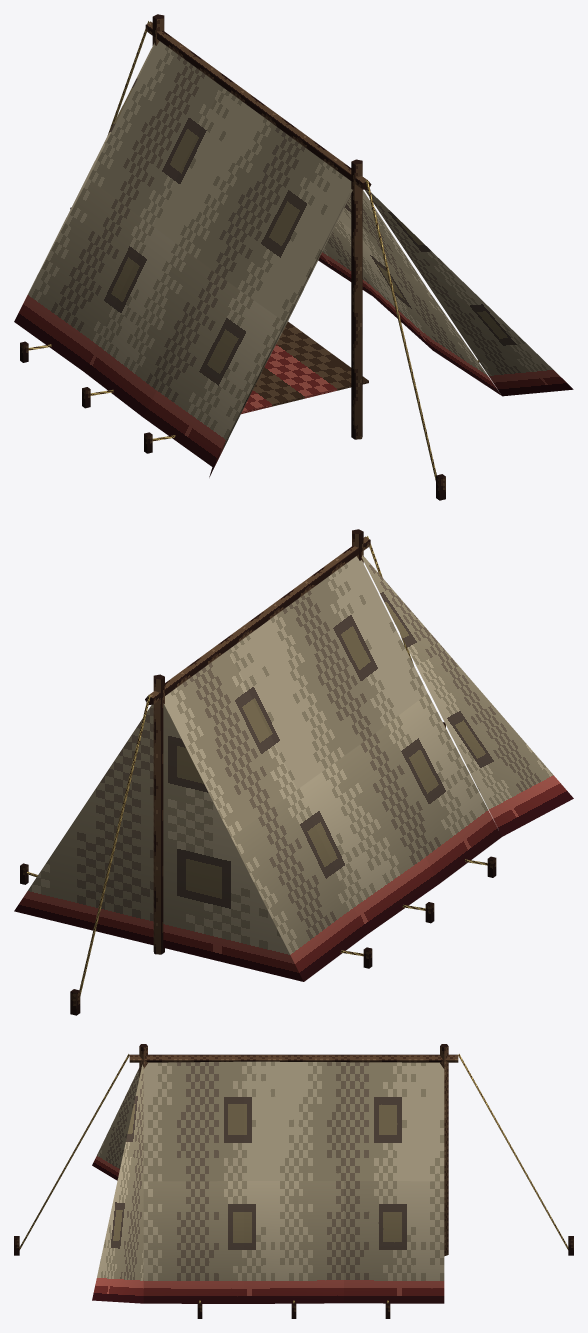
File: tent.glb
The picture shows the model from 3 angles, top to bottom: view 1: azimuth 30°, elevation 25°; view 2: azimuth 150°, elevation 25°; view 3: azimuth 270°, elevation 25°; orthographic projection. The views are drawn at different scales.
Parts seen in each view (by area): view 1: tent, tent_frame; view 2: tent, tent_frame; view 3: tent, tent_frame.
Part boxes in pixels (<box>): tent: <box>14,41,573,477</box>; tent_frame: <box>20,14,479,500</box>; tent: <box>14,555,573,981</box>; tent_frame: <box>20,529,496,1015</box>; tent: <box>92,1061,444,1303</box>; tent_frame: <box>14,1044,573,1318</box>.
Size of the model in its own units: 3.4 by 2.45 by 5.96.
Materials: 4 (4 with a texture image).
